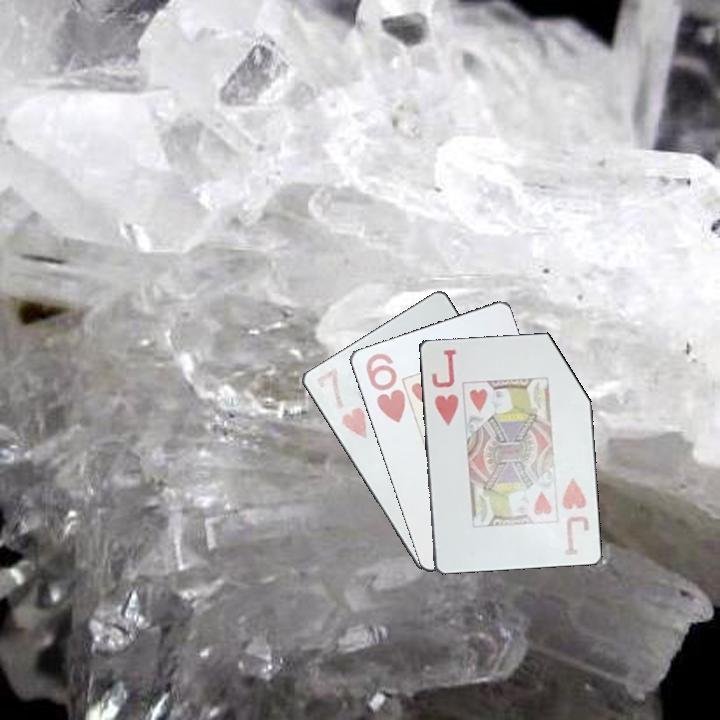6h: (362, 349, 409, 426)
7h: (312, 364, 369, 442)
Jh: (558, 474, 592, 558), (428, 346, 461, 428)
